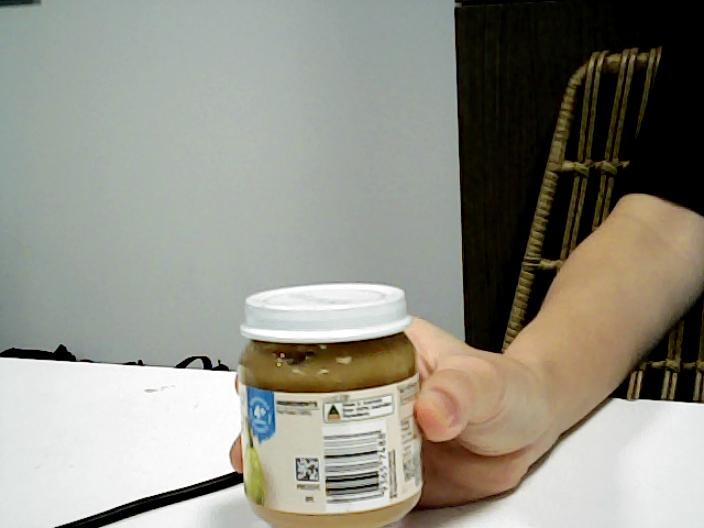Babyfood_100-199g_NonHalal_NonHealthy: (244, 287, 420, 525)
